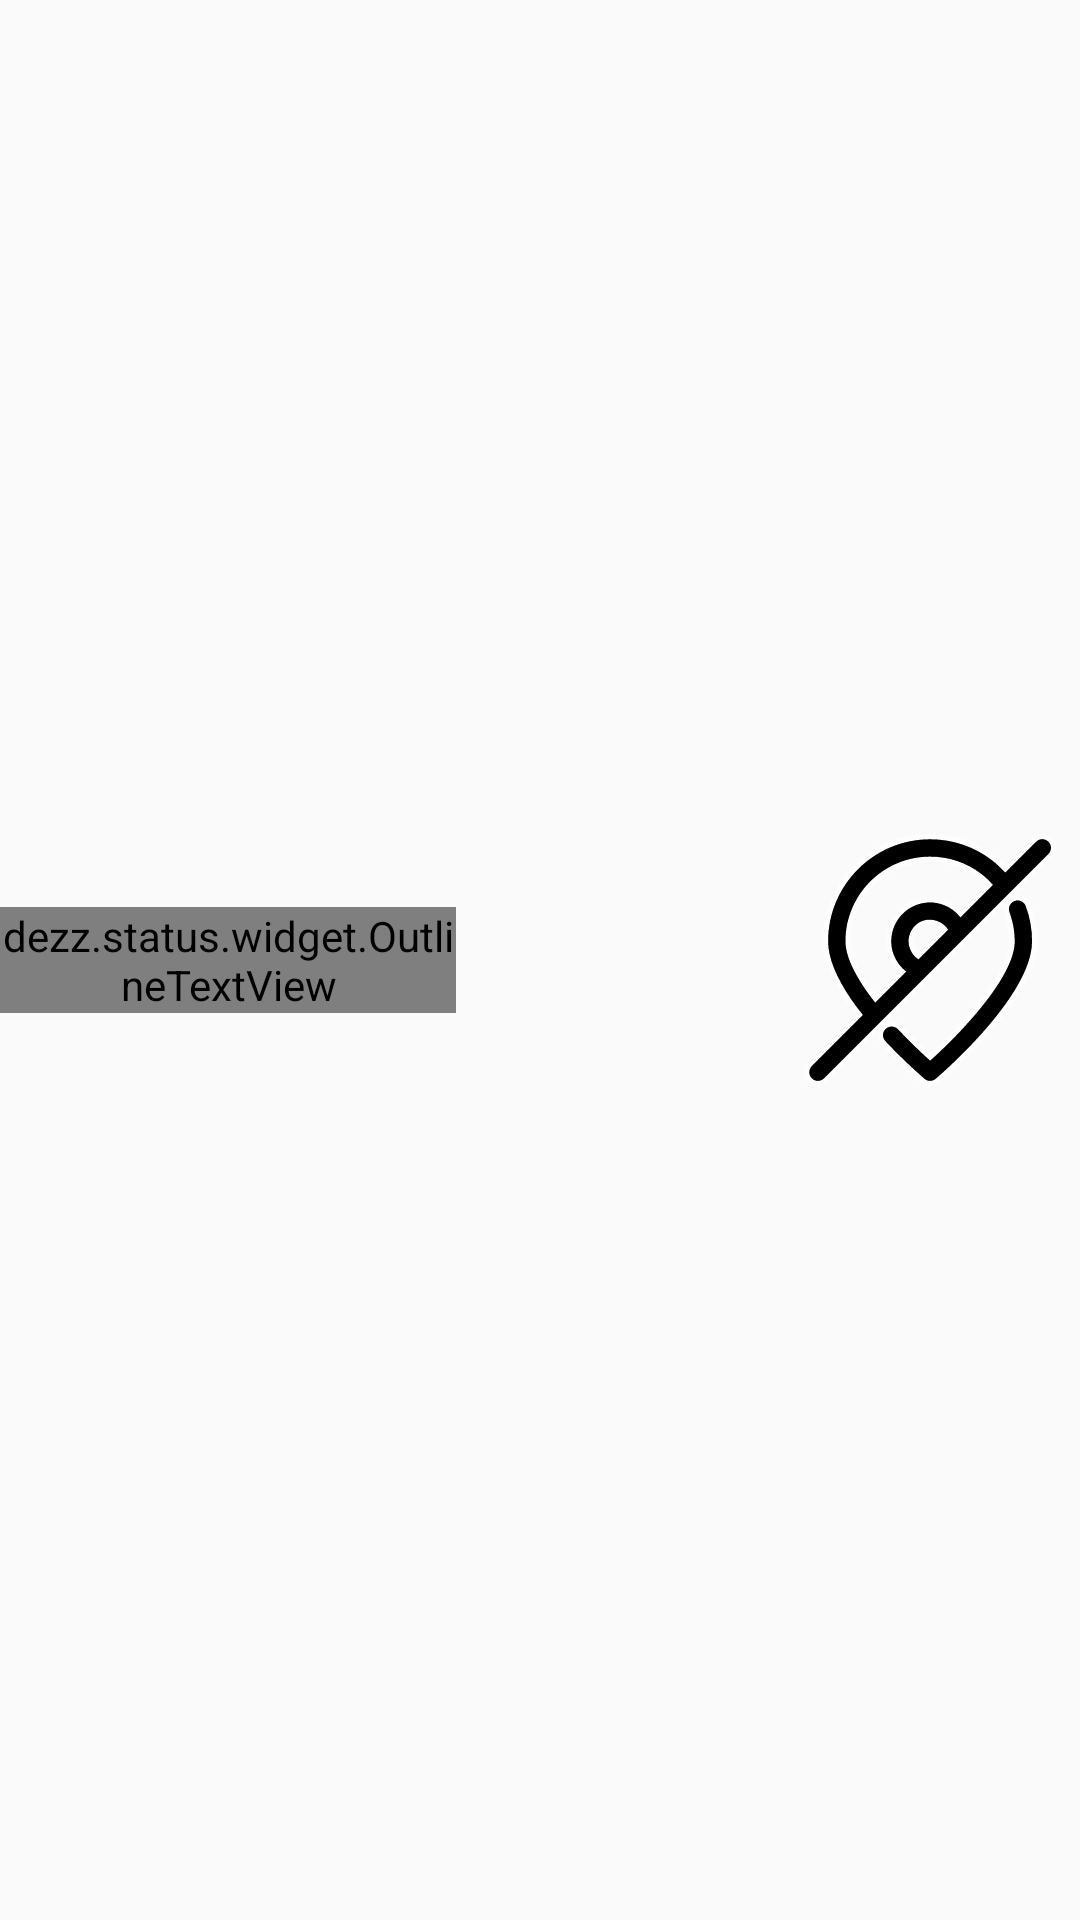

Named icons in this screenshot (1080 × 1920) and their centers, (x=x, y=y):
mono gps off: (x=930, y=960)
